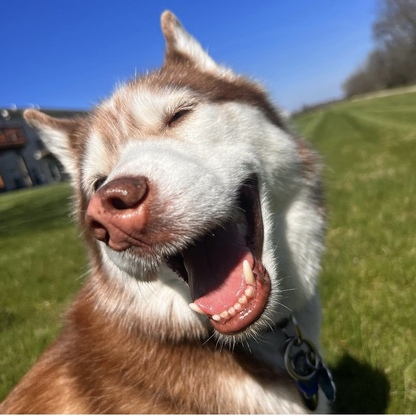husky: (1, 5, 337, 413)
